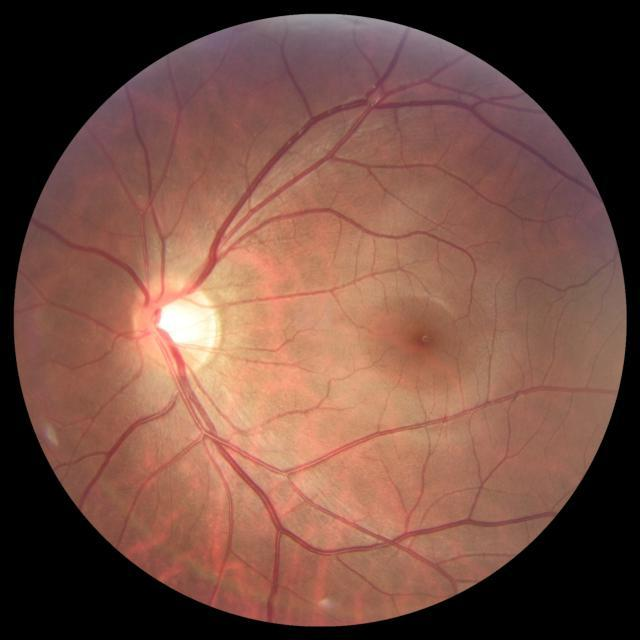OC: (153, 298, 203, 348)
OD: (133, 276, 220, 374)
